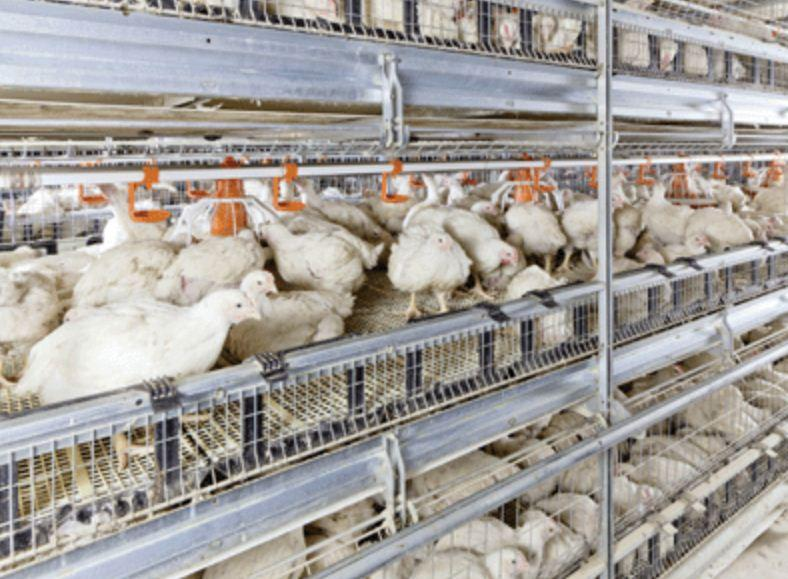chicken: (18, 294, 262, 406), (239, 267, 346, 348), (388, 222, 468, 313), (166, 229, 263, 299), (419, 204, 519, 268), (479, 193, 565, 254)
